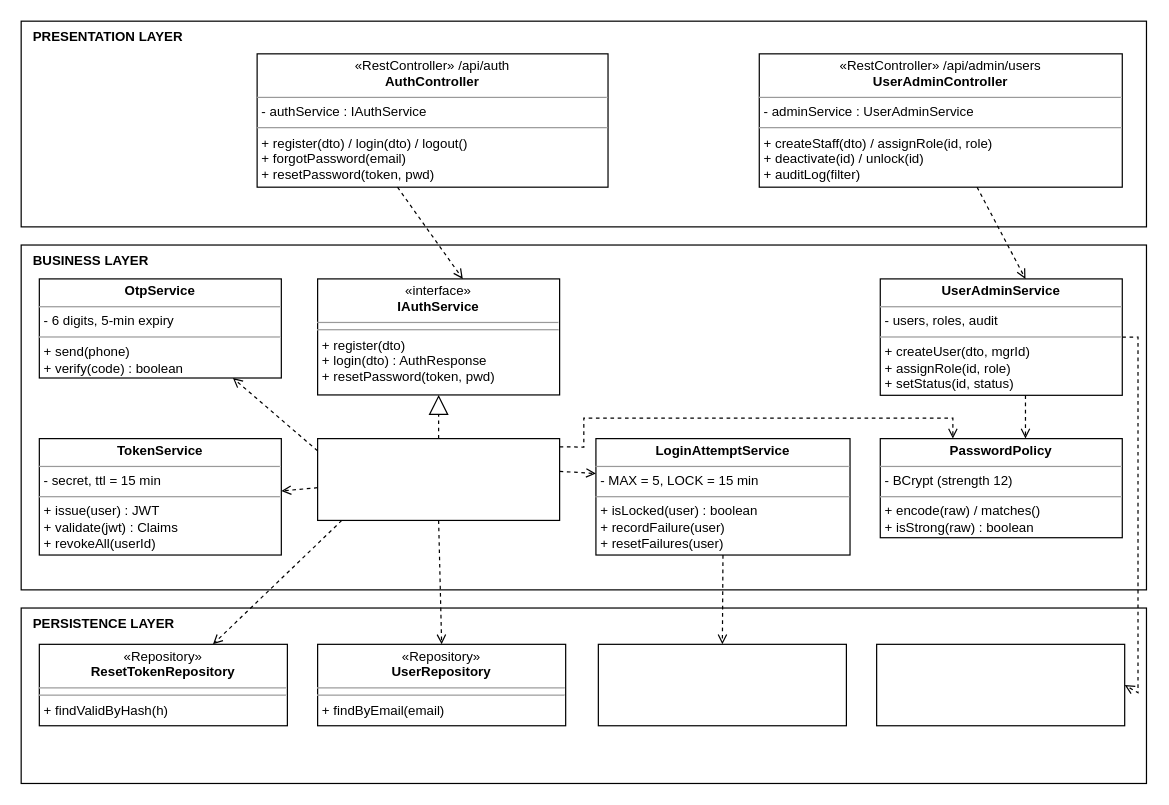
Some shapes in this 1169 by 805 pixel diagram are drawn without their labels. Each missing label, with the centre of its shape:
"AuthService - users : UserRepository @Transactional methods" goes at point (438, 478).
"«Repository» LoginAuditRepository + save(audit)" goes at point (721, 684).
"«Repository» RoleRepository + findByName(name)" goes at point (1000, 684).
